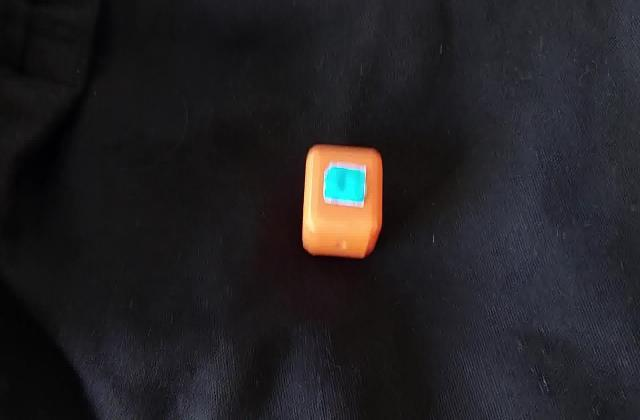blue: (330, 173, 360, 195)
sticker: (298, 138, 388, 262)
